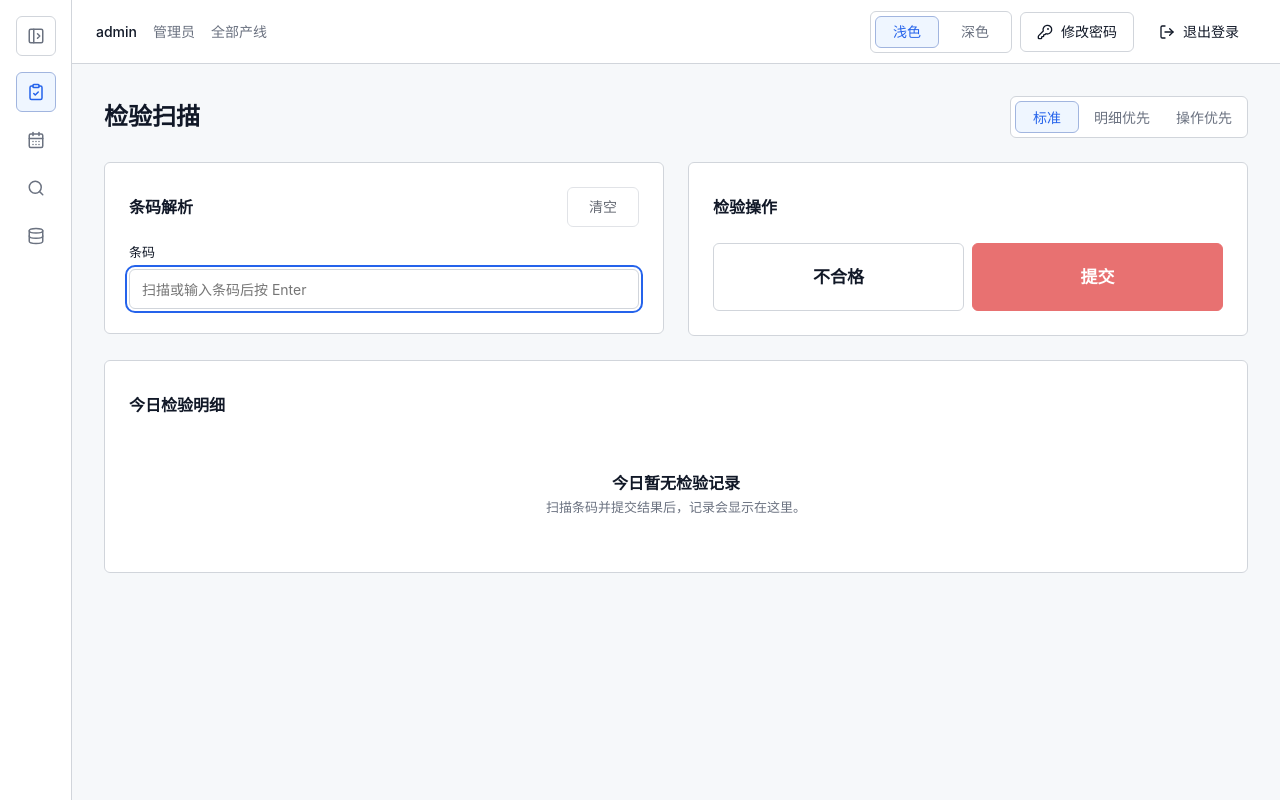
AppShell › starts with the sidebar collapsed and persists explicit expansion
Click the button named "展开菜单".
click(36, 36)  # box [16,16,56,56]
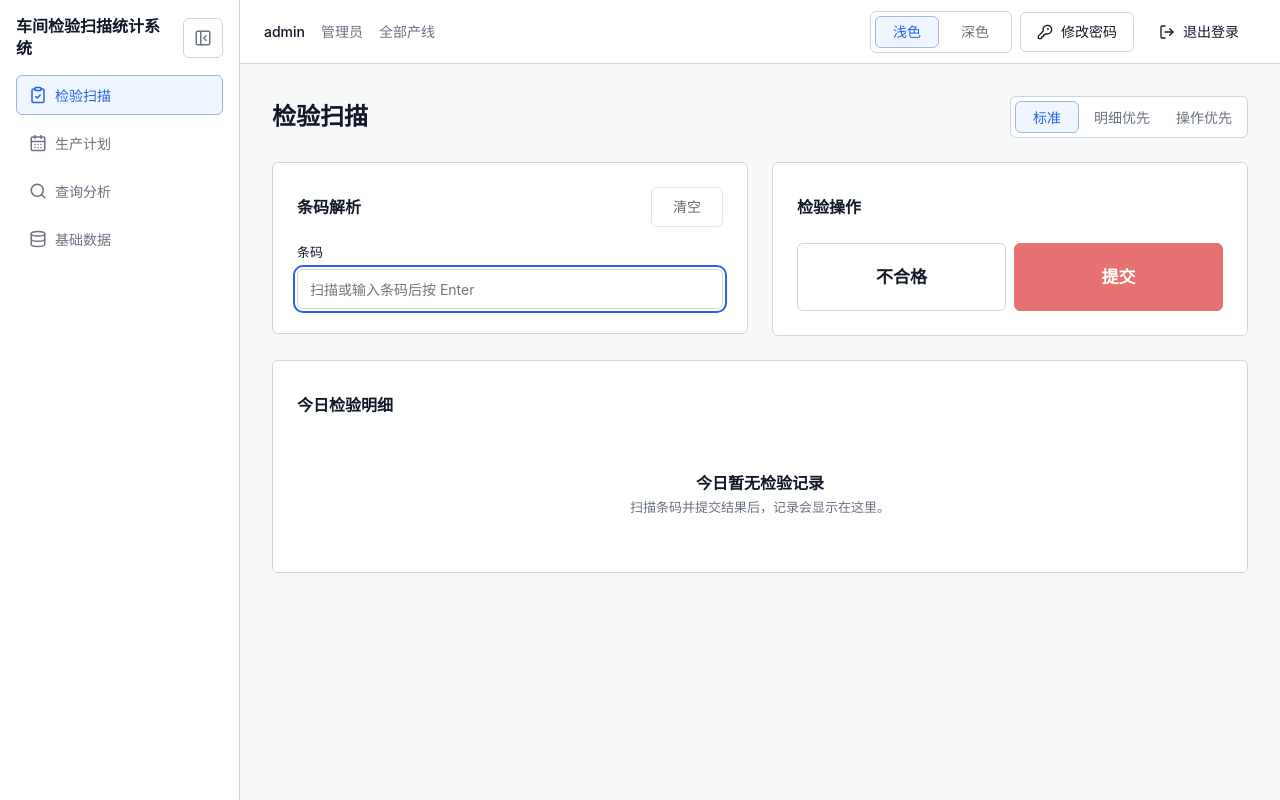
Result: the button named "收起菜单" is shown at [183,18,223,58]
